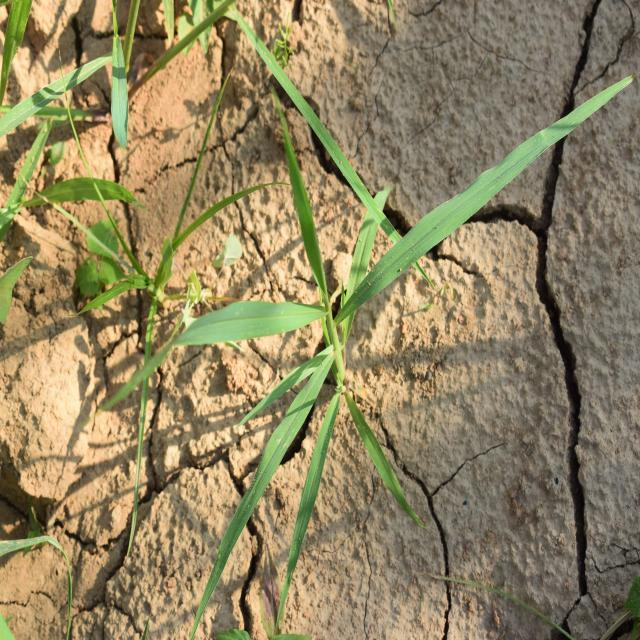green_foxtail: (179, 109, 502, 542)
